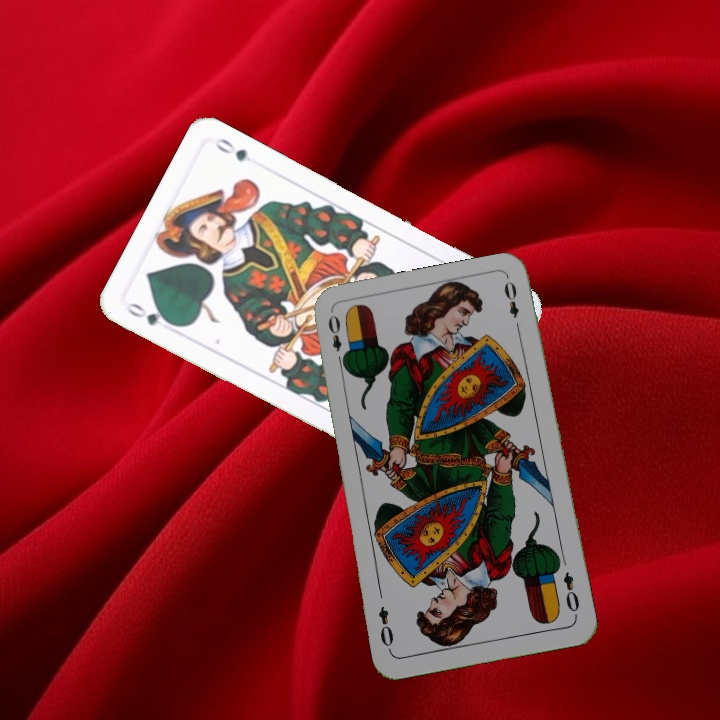EO: (324, 310, 349, 369), (559, 568, 582, 619)
GO: (123, 298, 179, 329)
